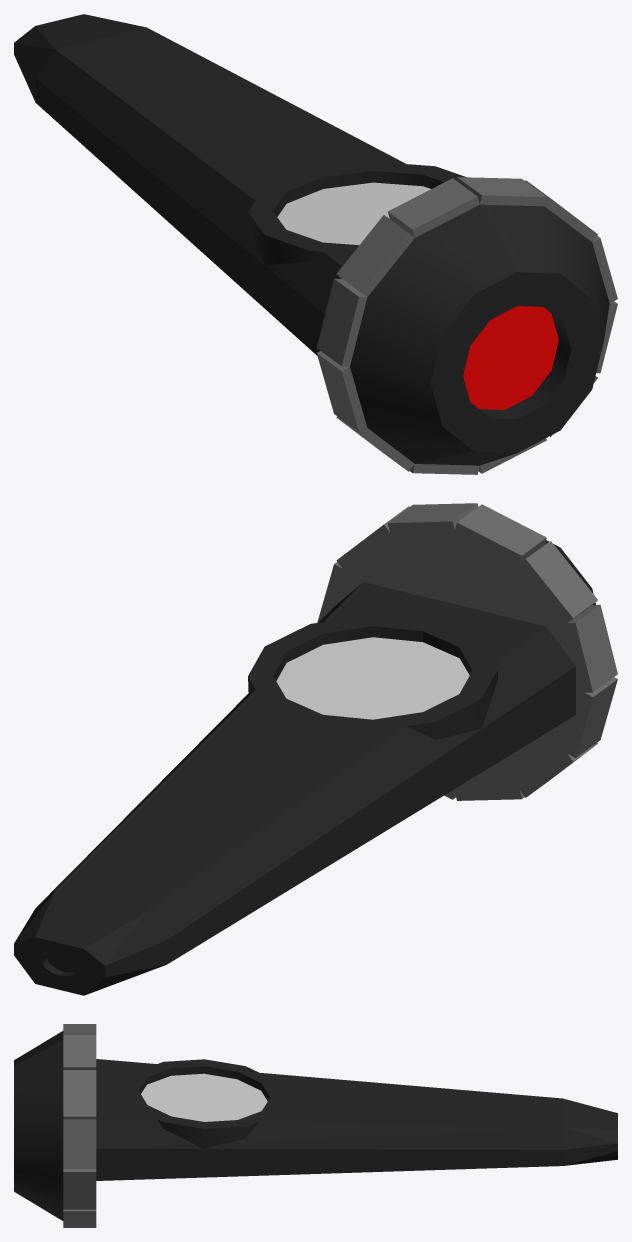
Rendered from LaserPointer4.obj.
The picture shows the model from 3 angles, top to bottom: view 1: azimuth 30°, elevation 25°; view 2: azimuth 150°, elevation 25°; view 3: azimuth 270°, elevation 25°; orthographic projection. The views are drawn at different scales.
Parts seen in each view (by area): view 1: Mesh5 Group5 LaserPointerHalf2 LowPolyLaserPointer1 Model, Mesh7 Group8 Group6 LaserPointerHalf2 LowPolyLaserPointer1 Model, Mesh3 Group4 Group2 LaserPointerHalf1 LowPolyLaserPointer1 Model, Mesh1 Group1 LaserPointerHalf1 LowPolyLaserPointer1 Model, Mesh6 Group7 Group6 LaserPointerHalf2 LowPolyLaserPointer1 Model, Mesh2 Group3 Group2 LaserPointerHalf1 LowPolyLaserPointer1 Model; view 2: Mesh5 Group5 LaserPointerHalf2 LowPolyLaserPointer1 Model, Mesh1 Group1 LaserPointerHalf1 LowPolyLaserPointer1 Model, Mesh6 Group7 Group6 LaserPointerHalf2 LowPolyLaserPointer1 Model, Mesh2 Group3 Group2 LaserPointerHalf1 LowPolyLaserPointer1 Model; view 3: Mesh1 Group1 LaserPointerHalf1 LowPolyLaserPointer1 Model, Mesh5 Group5 LaserPointerHalf2 LowPolyLaserPointer1 Model, Mesh3 Group4 Group2 LaserPointerHalf1 LowPolyLaserPointer1 Model, Mesh2 Group3 Group2 LaserPointerHalf1 LowPolyLaserPointer1 Model, Mesh7 Group8 Group6 LaserPointerHalf2 LowPolyLaserPointer1 Model, Mesh6 Group7 Group6 LaserPointerHalf2 LowPolyLaserPointer1 Model.
Boxes of the visible parts, x1=… form: Mesh5 Group5 LaserPointerHalf2 LowPolyLaserPointer1 Model: x1=14, y1=20, x2=376, y2=355; Mesh7 Group8 Group6 LaserPointerHalf2 LowPolyLaserPointer1 Model: x1=350, y1=205, x2=517, y2=465; Mesh3 Group4 Group2 LaserPointerHalf1 LowPolyLaserPointer1 Model: x1=480, y1=204, x2=609, y2=452; Mesh1 Group1 LaserPointerHalf1 LowPolyLaserPointer1 Model: x1=60, y1=14, x2=466, y2=222; Mesh6 Group7 Group6 LaserPointerHalf2 LowPolyLaserPointer1 Model: x1=316, y1=178, x2=479, y2=474; Mesh2 Group3 Group2 LaserPointerHalf1 LowPolyLaserPointer1 Model: x1=456, y1=177, x2=617, y2=473; Mesh5 Group5 LaserPointerHalf2 LowPolyLaserPointer1 Model: x1=59, y1=604, x2=575, y2=995; Mesh1 Group1 LaserPointerHalf1 LowPolyLaserPointer1 Model: x1=14, y1=582, x2=454, y2=989; Mesh6 Group7 Group6 LaserPointerHalf2 LowPolyLaserPointer1 Model: x1=455, y1=504, x2=617, y2=800; Mesh2 Group3 Group2 LaserPointerHalf1 LowPolyLaserPointer1 Model: x1=317, y1=503, x2=478, y2=799; Mesh1 Group1 LaserPointerHalf1 LowPolyLaserPointer1 Model: x1=96, y1=1088, x2=617, y2=1180; Mesh5 Group5 LaserPointerHalf2 LowPolyLaserPointer1 Model: x1=96, y1=1059, x2=617, y2=1120; Mesh3 Group4 Group2 LaserPointerHalf1 LowPolyLaserPointer1 Model: x1=14, y1=1040, x2=63, y2=1220; Mesh2 Group3 Group2 LaserPointerHalf1 LowPolyLaserPointer1 Model: x1=63, y1=1035, x2=96, y2=1227; Mesh7 Group8 Group6 LaserPointerHalf2 LowPolyLaserPointer1 Model: x1=14, y1=1031, x2=63, y2=1065; Mesh6 Group7 Group6 LaserPointerHalf2 LowPolyLaserPointer1 Model: x1=63, y1=1024, x2=96, y2=1034.
Size of the model in its own units: 6.39 by 6.15 by 18.32.
